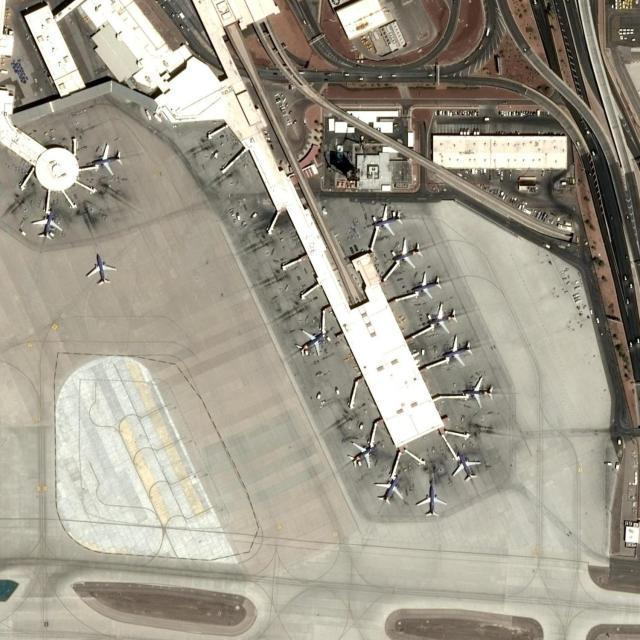Aircraft: (84, 252, 117, 286), (30, 207, 63, 240), (415, 485, 449, 517), (462, 376, 494, 408), (91, 143, 121, 177), (425, 301, 457, 332), (371, 205, 404, 235), (295, 325, 326, 356), (443, 334, 473, 366), (345, 439, 376, 469), (390, 237, 420, 268), (452, 450, 482, 480), (374, 474, 403, 504), (409, 272, 441, 298)
